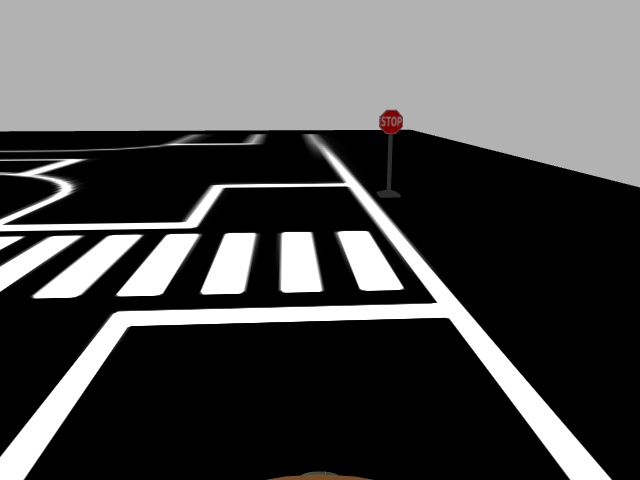stop: (375, 107, 406, 136)
